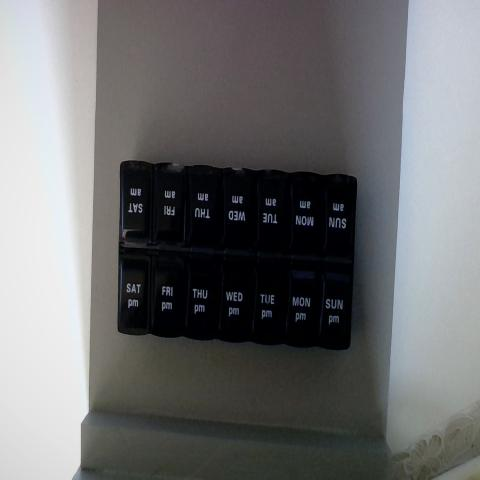FRI-am: (157, 164, 186, 241)
FRI-pm: (153, 254, 184, 334)
MON-am: (289, 172, 324, 253)
MON-pm: (284, 262, 320, 346)
PillBox: (105, 138, 368, 371)
SAT-am: (122, 164, 156, 245)
SAT-pm: (118, 252, 152, 335)
SUN-am: (325, 177, 357, 255)
SUN-pm: (319, 262, 352, 348)
THU-am: (190, 163, 223, 245)
THU-pm: (183, 250, 217, 336)
TUE-am: (257, 166, 288, 252)
TUE-pm: (251, 262, 283, 342)
WED-am: (224, 167, 256, 249)
WED-pm: (216, 257, 252, 335)
